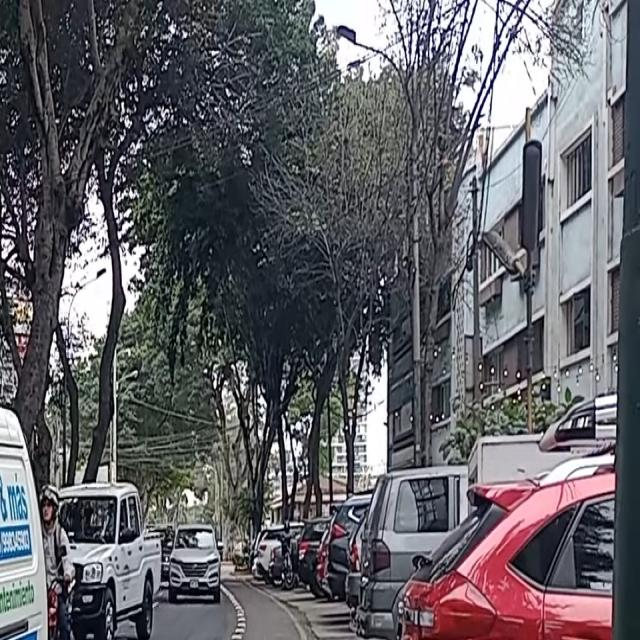car: (58, 479, 161, 640), (0, 374, 28, 640), (168, 524, 225, 602)
motorcycle: (40, 572, 72, 640)
